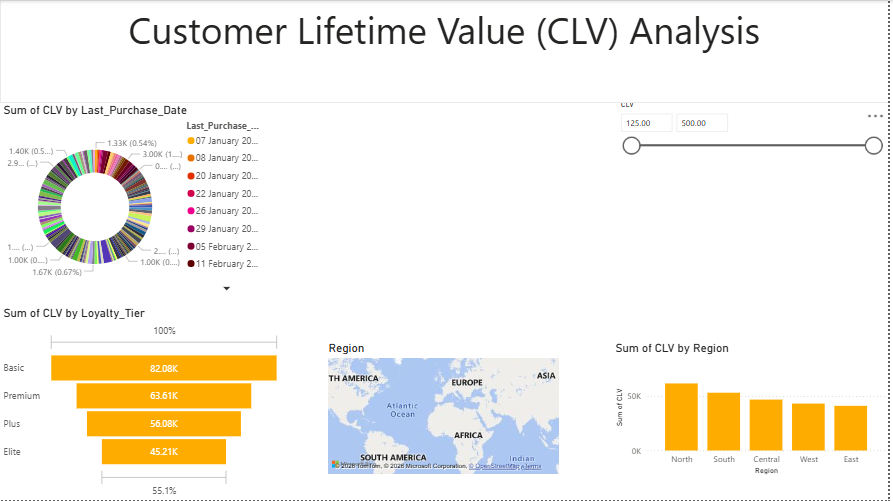

What the dashboard file says about the page in this screenshot:
{"tool":"powerbi","page":{"name":"T6","canvas":[1280,720],"ordinal":4},"visuals":[{"type":"donutChart","fields":{"Y":["Sum(Customer_Transactions.CLV)"],"Category":["Churn_Labelled_Customers.Last_Purchase_Date"]},"box":[0,148.3,386.7,280],"z":0},{"type":"funnel","fields":{"Category":["Loyalty_Program.Loyalty_Tier"],"Y":["Sum(Customer_Transactions.CLV)"]},"box":[0,440,408.3,280],"z":1000},{"type":"clusteredColumnChart","fields":{"Y":["Sum(Customer_Transactions.CLV)"],"Category":["Customer_Demographics.Region"]},"box":[881.7,491.7,398.3,196.7],"z":2000},{"type":"slicer","fields":{"Values":["Customer_Transactions.CLV"]},"box":[881.7,140,398.3,126.7],"z":4000},{"type":"filledMap","fields":{"Series":["Customer_Demographics.Region"]},"box":[468.3,491.7,341.7,196.7],"z":6000},{"type":"textbox","box":[0,0,1280,148.3],"z":7000}]}

Visuals, with their boxes in screenshot pixels (x1, y1, x2, y2), scaled from the page's 1280x720 canvas onto the 893x501 screenshot:
donutChart - Sum(Customer_Transactions.CLV) x Churn_Labelled_Customers.Last_Purchase_Date: locate(0, 103, 270, 298)
funnel - Loyalty_Program.Loyalty_Tier x Sum(Customer_Transactions.CLV): locate(0, 306, 285, 500)
clusteredColumnChart - Sum(Customer_Transactions.CLV) x Customer_Demographics.Region: locate(615, 342, 892, 479)
slicer - Customer_Transactions.CLV: locate(615, 97, 892, 186)
filledMap - Customer_Demographics.Region: locate(327, 342, 565, 479)
textbox: locate(0, 0, 892, 103)
